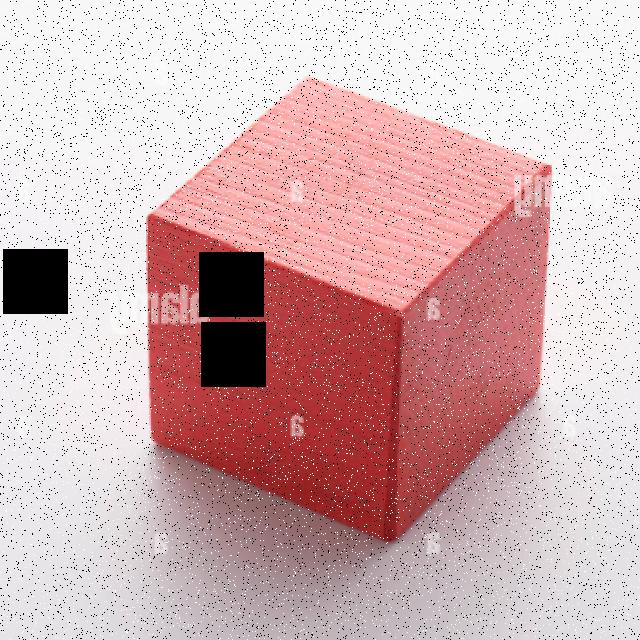red cube: (148, 74, 555, 547)
